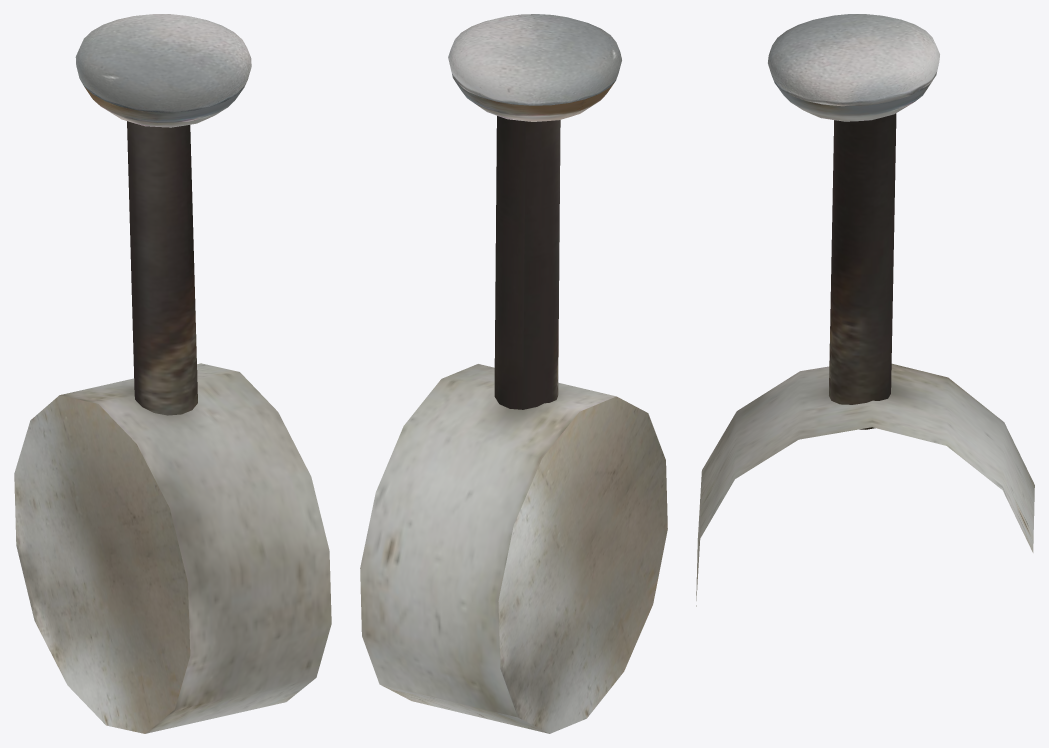
Rendered from Unity2Skfb.gltf.
The picture shows the model from 3 angles, left to right: view 1: azimuth 30°, elevation 25°; view 2: azimuth 150°, elevation 25°; view 3: azimuth 270°, elevation 25°; orthographic projection. The views are drawn at different scales.
Parts seen in each view (by area): view 1: node_A32_-55774; view 2: node_A32_-55774; view 3: node_A32_-55774.
Part boxes in pixels (x1,y1,x2,y2): node_A32_-55774: [14, 14, 331, 733]; node_A32_-55774: [360, 14, 667, 733]; node_A32_-55774: [696, 14, 1034, 606].
Bounding box in the file's own units: 0.0549 × 0.2178 × 0.102.
1 material, 1 textured.
